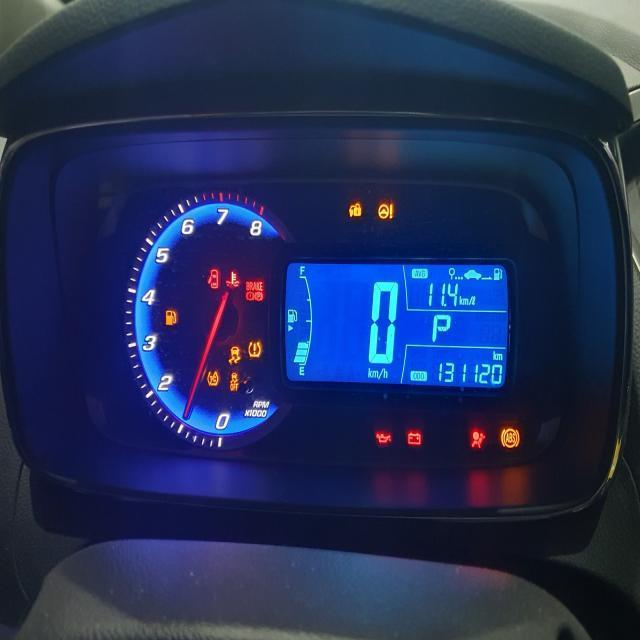Doors: (206, 268, 218, 289)
Engine cooling system: (224, 270, 240, 288)
Low fuel level: (164, 308, 176, 324)
